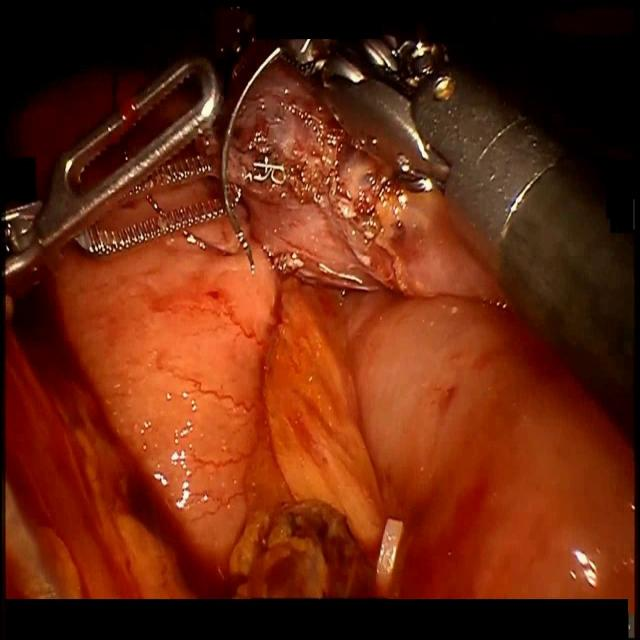surgical-area: (0, 0, 638, 599)
surgical-tool: (271, 28, 637, 450), (0, 48, 240, 310)
